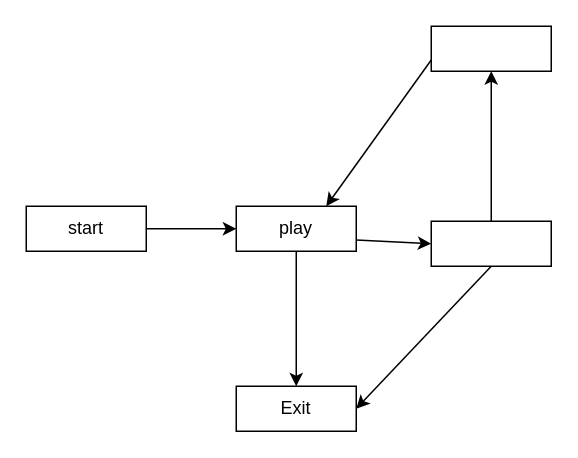
This 578x458 diagram has some shape labels left out. The centre of each missing label's shape, as x and y in pixels:
Paused: the point at 490,243
Resumed: the point at 490,48
